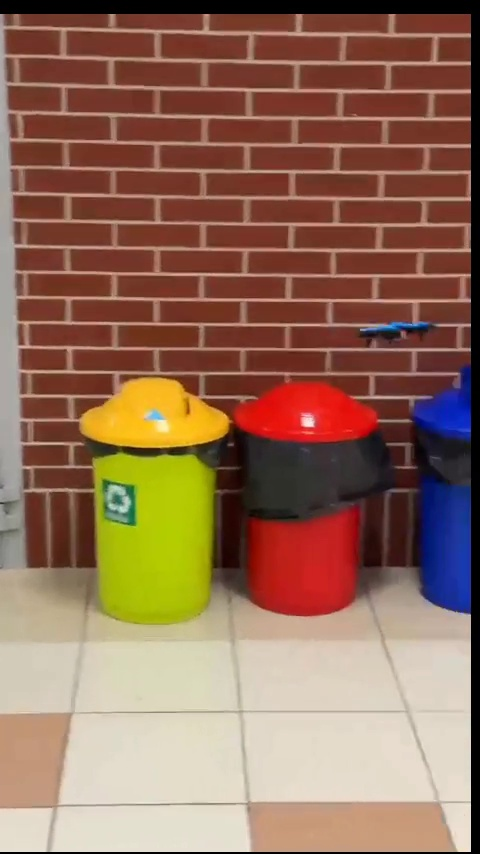drone: (356, 317, 434, 350)
